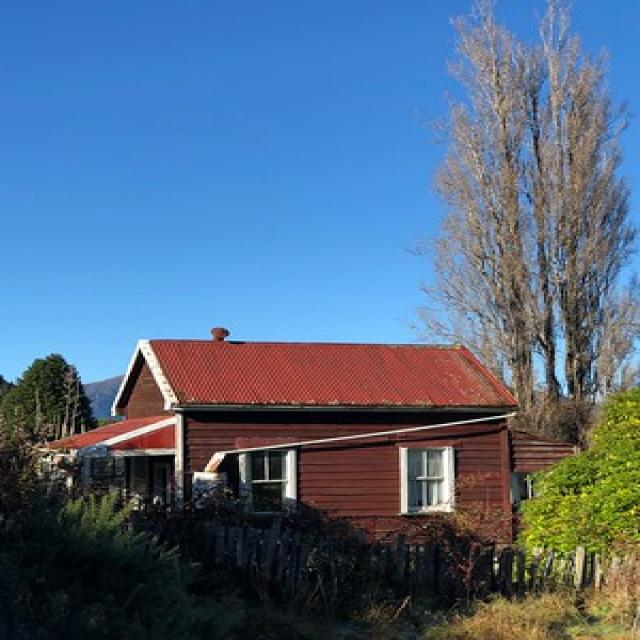Normal_building: (46, 334, 519, 581)
